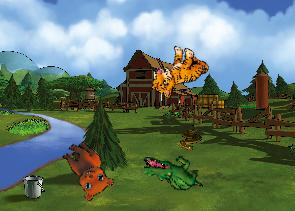bear: (50, 136, 120, 205)
crocodile: (142, 153, 203, 192)
tiger: (147, 39, 212, 108)
